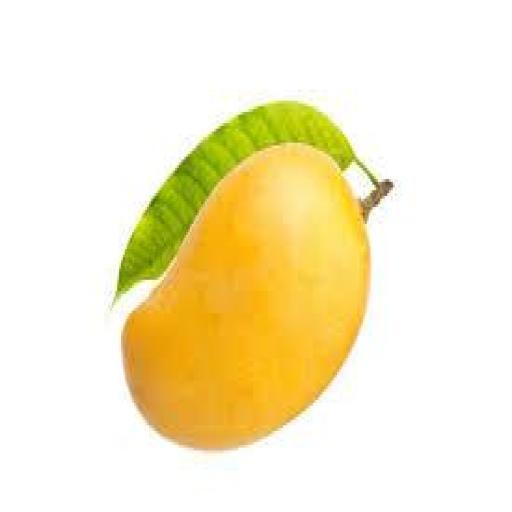mango: (123, 143, 370, 447)
